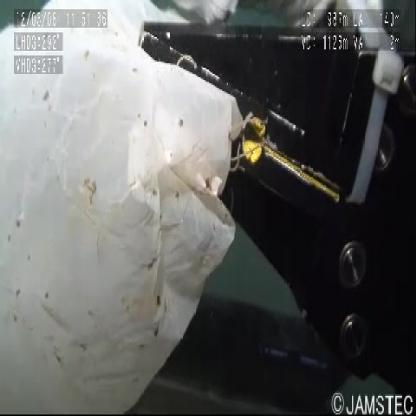Rov: (134, 1, 414, 390), (124, 274, 358, 416)
Rác: (1, 1, 245, 413)
